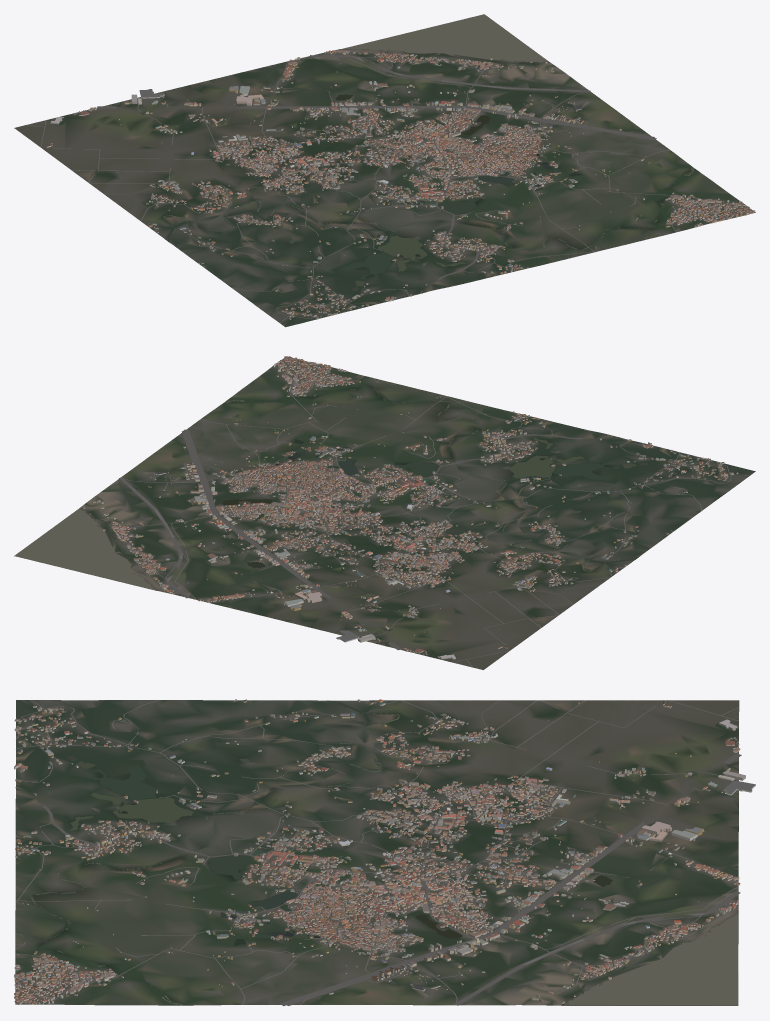
3 renders of one model, top to bottom at view 1: azimuth 30°, elevation 25°; view 2: azimuth 150°, elevation 25°; view 3: azimuth 270°, elevation 25°, orthographic. The views are drawn at different scales.
Visible parts, largest first — view 1: ground, buildings, roads, water; view 2: ground, buildings, water, roads; view 3: ground, buildings, water, roads.
Part boxes in pixels (x1,y1,x2,y2): ground: (14, 48, 755, 327); buildings: (46, 50, 755, 319); roads: (25, 51, 754, 321); water: (163, 14, 693, 290); ground: (14, 357, 755, 669); buildings: (82, 356, 738, 659); water: (14, 389, 647, 595); roads: (100, 365, 746, 667); ground: (15, 700, 739, 1005); buildings: (14, 699, 755, 1004); water: (31, 700, 738, 1005); roads: (15, 700, 741, 1006).
Size of the model in its own units: 2812 by 33.19 by 2877.
